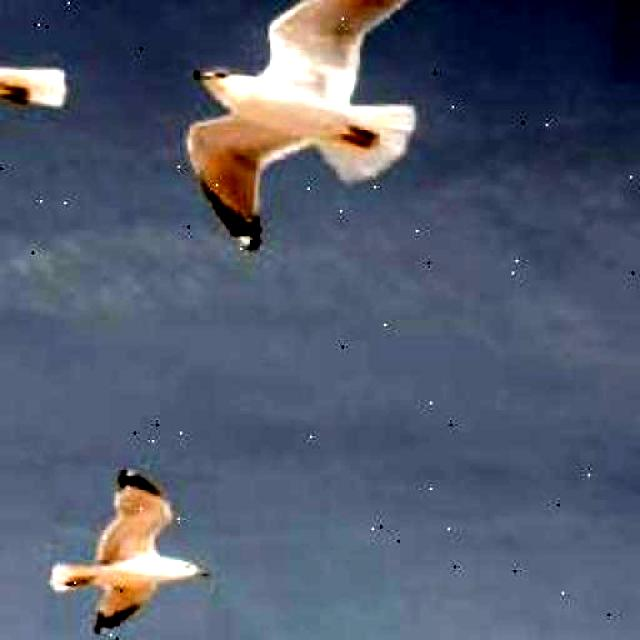airplane: (175, 0, 459, 266), (42, 462, 219, 640), (0, 0, 81, 218)
